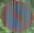No parking: (0, 0, 32, 32)
